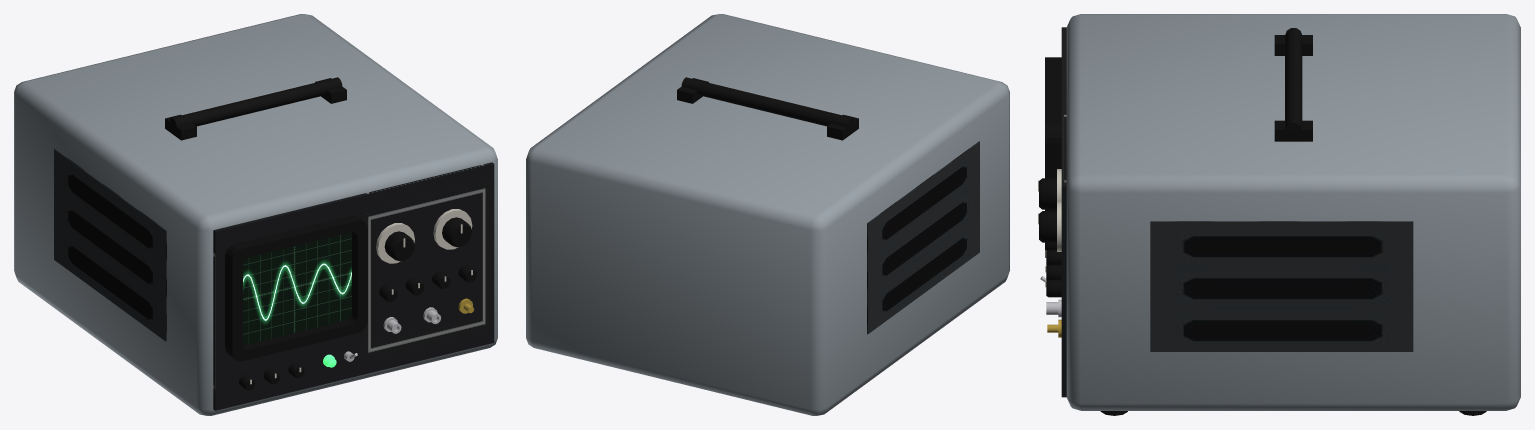
The model's file is oscilloscope.glb.
The picture shows the model from 3 angles, left to right: view 1: azimuth 30°, elevation 25°; view 2: azimuth 150°, elevation 25°; view 3: azimuth 270°, elevation 25°; orthographic projection. The views are drawn at different scales.
Visible parts, largest first — view 1: oscilloscope_N33; view 2: oscilloscope_N33; view 3: oscilloscope_N33.
Part boxes in pixels (x1,y1,x2,y2): oscilloscope_N33: [14, 14, 497, 415]; oscilloscope_N33: [526, 14, 1009, 415]; oscilloscope_N33: [1038, 14, 1520, 415].
Bounding box in the file's own units: 0.3424 × 0.2433 × 0.4038.
2 materials, 2 textured.
